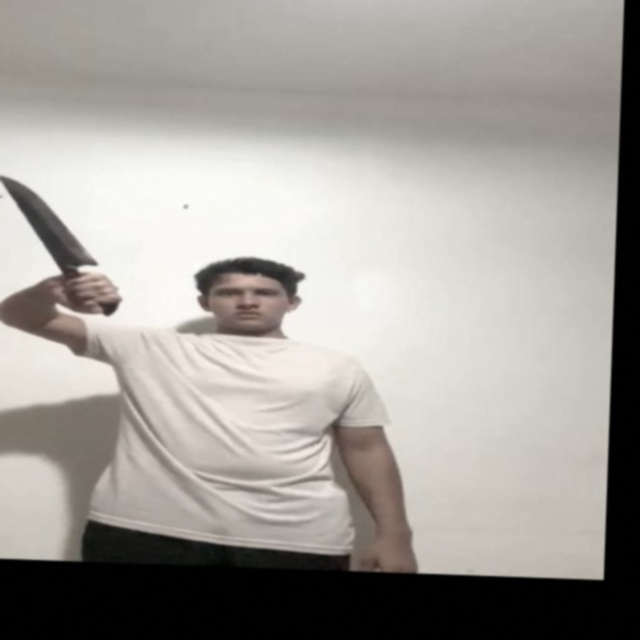Sharp-Object: (0, 173, 100, 265)
